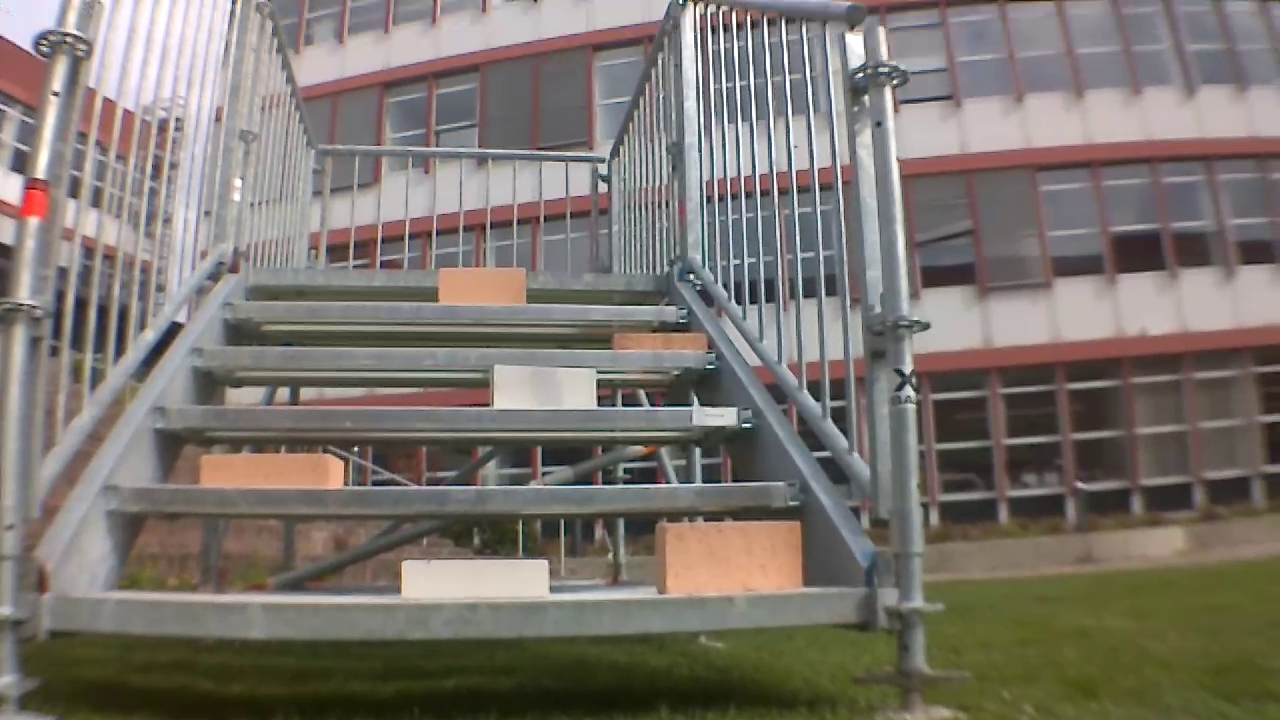brick: (651, 515, 816, 591), (403, 559, 548, 600), (195, 454, 348, 483), (490, 366, 593, 405), (436, 266, 532, 304), (611, 329, 707, 354)
edge: (43, 584, 877, 645), (94, 479, 803, 518), (152, 405, 759, 432), (188, 349, 721, 374), (225, 300, 688, 326), (251, 272, 662, 285)
stairs: (7, 11, 886, 658)
steps: (46, 269, 882, 641)
